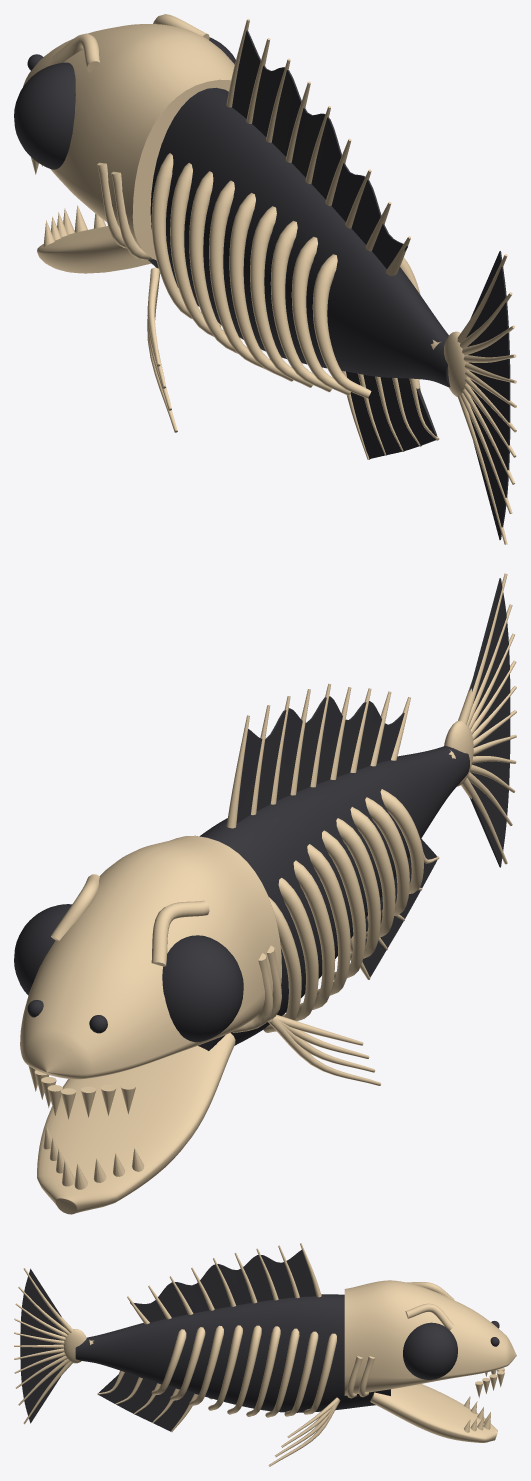
The model's file is FISH_SKELETONBASS.glb.
3 renders of one model, top to bottom at view 1: azimuth 30°, elevation 25°; view 2: azimuth 150°, elevation 25°; view 3: azimuth 270°, elevation 25°, orthographic. The views are drawn at different scales.
Visible parts, largest first — view 1: BodyShadow_body, Rib (×9), Skull_body, Fin_DorsalMembrane, Fin_TailMembrane, EyeSocket, Fin_AnalMembrane, Jaw_body, Gill_Plate (×2), TailPlate, Brow, PelvicRay (+1 smaller); view 2: Skull_body, BodyShadow_body, Jaw_body, Rib (×9), EyeSocket (×2), Fin_DorsalMembrane, Fin_TailMembrane, Brow (×2), Fin_AnalMembrane, PelvicRay, Gill_Plate, TailPlate (+2 smaller); view 3: BodyShadow_body, Skull_body, Rib (×9), Fin_DorsalMembrane, Jaw_body, Fin_TailMembrane, Fin_AnalMembrane, EyeSocket, Gill_Plate (×2), PelvicRay (×2), TailRay (×2), Brow (+1 smaller).
Part boxes in pixels (left/top/right/bottom): BodyShadow_body: left=148, top=87, right=450, bottom=387; Rib (×9): left=151, top=153, right=371, bottom=398; Skull_body: left=23, top=24, right=234, bottom=260; Fin_DorsalMembrane: left=232, top=30, right=407, bottom=268; Fin_TailMembrane: left=466, top=251, right=510, bottom=539; EyeSocket: left=14, top=62, right=75, bottom=169; Fin_AnalMembrane: left=346, top=371, right=437, bottom=459; Jaw_body: left=37, top=226, right=151, bottom=273; Gill_Plate (×2): left=97, top=162, right=152, bottom=259; TailPlate: left=444, top=331, right=466, bottom=396; Brow: left=50, top=33, right=99, bottom=72; PelvicRay: left=148, top=267, right=160, bottom=366; Skull_body: left=20, top=835, right=281, bottom=1079; BodyShadow_body: left=198, top=746, right=469, bottom=1050; Jaw_body: left=37, top=1033, right=235, bottom=1214; Rib (×9): left=263, top=789, right=423, bottom=1032; EyeSocket (×2): left=14, top=904, right=243, bottom=1042; Fin_DorsalMembrane: left=236, top=696, right=404, bottom=823; Fin_TailMembrane: left=469, top=578, right=510, bottom=867; Brow (×2): left=51, top=874, right=209, bottom=966; Fin_AnalMembrane: left=362, top=839, right=437, bottom=977; PelvicRay: left=268, top=1019, right=381, bottom=1085; Gill_Plate: left=232, top=953, right=272, bottom=1032; TailPlate: left=444, top=720, right=473, bottom=786; BodyShadow_body: left=75, top=1294, right=390, bottom=1412; Skull_body: left=344, top=1280, right=516, bottom=1395; Rib (×9): left=151, top=1325, right=336, bottom=1417; Fin_DorsalMembrane: left=130, top=1250, right=316, bottom=1322; Jaw_body: left=370, top=1384, right=497, bottom=1442; Fin_TailMembrane: left=20, top=1268, right=65, bottom=1423; Fin_AnalMembrane: left=98, top=1372, right=193, bottom=1431; EyeSocket: left=403, top=1322, right=457, bottom=1379; Gill_Plate (×2): left=346, top=1356, right=374, bottom=1398; PelvicRay (×2): left=268, top=1400, right=340, bottom=1466; TailRay (×2): left=23, top=1268, right=72, bottom=1424; Brow: left=405, top=1303, right=454, bottom=1330.
Size of the model in its own units: 0.6347 by 1.03 by 2.39.
